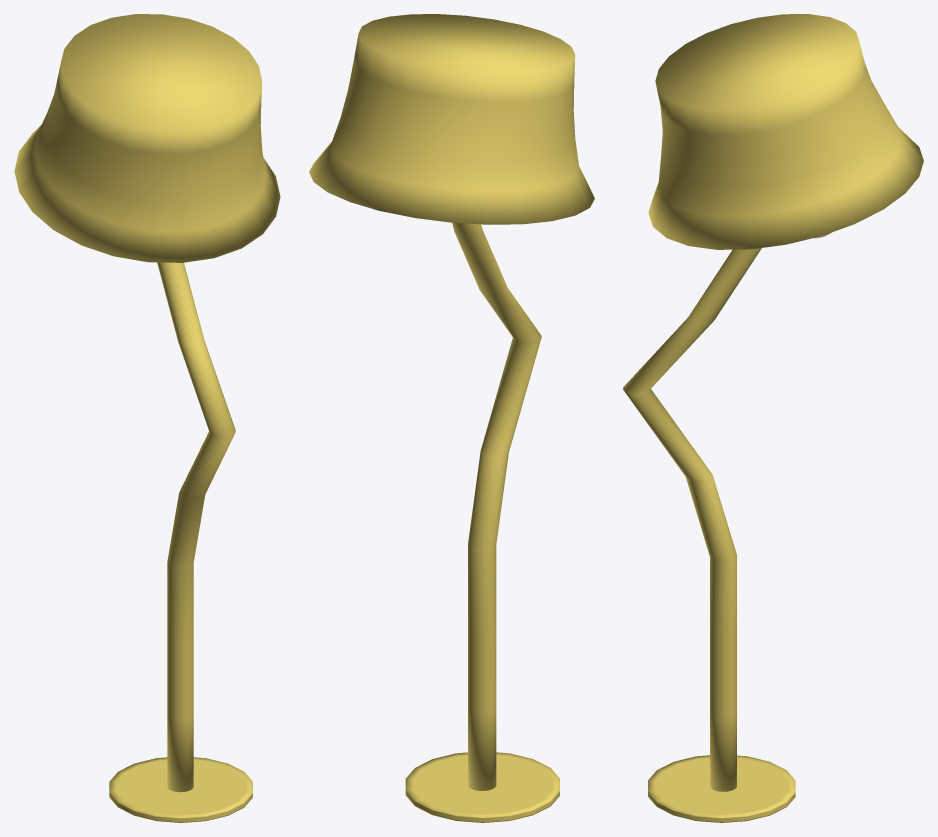
Rendered from lampara.obj.
3 views of the same model, side by side, from view 1: azimuth 30°, elevation 25°; view 2: azimuth 150°, elevation 25°; view 3: azimuth 270°, elevation 25° (orthographic). The views are drawn at different scales.
Parts seen in each view (by area): view 1: Cone001, Cylinder002, Cylinder001; view 2: Cone001, Cylinder002, Cylinder001; view 3: Cone001, Cylinder002, Cylinder001.
Boxes of the visible parts, x1,y1,x2,y2 form: Cone001: (14, 14, 280, 262); Cylinder002: (157, 262, 235, 792); Cylinder001: (109, 757, 252, 822); Cone001: (309, 14, 594, 224); Cylinder002: (452, 222, 541, 790); Cylinder001: (405, 752, 559, 822); Cone001: (648, 14, 923, 249); Cylinder002: (623, 248, 761, 791); Cylinder001: (648, 755, 795, 822).
Bounding box in the file's own units: 31.42 × 94.79 × 34.59.
Materials: 2 (2 with a texture image).
